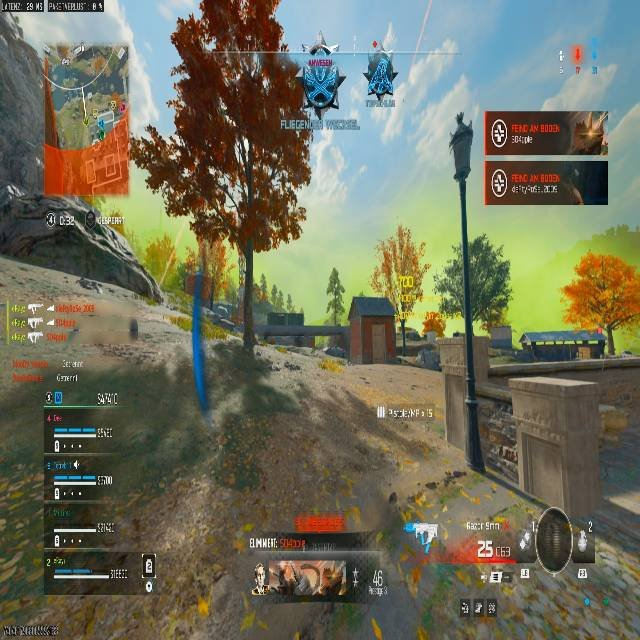player: (365, 56, 397, 103)
